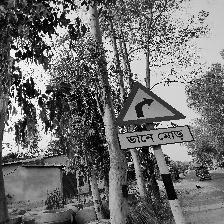Right-turn: (113, 81, 193, 151)
